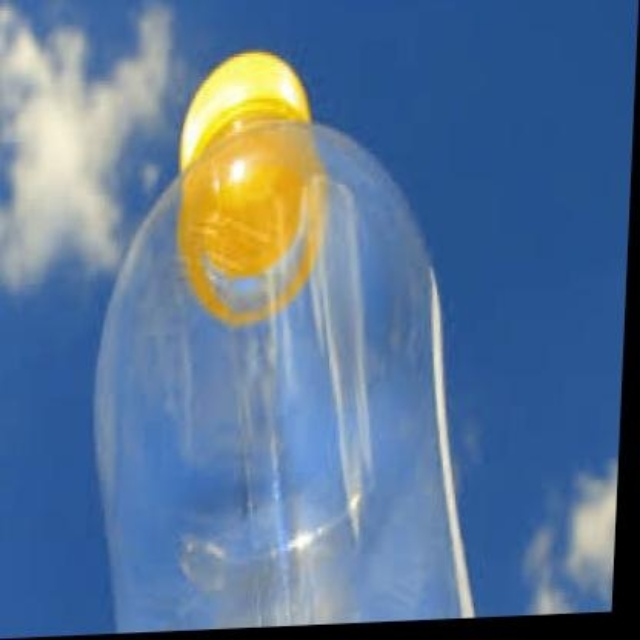trash: (95, 52, 472, 629)
